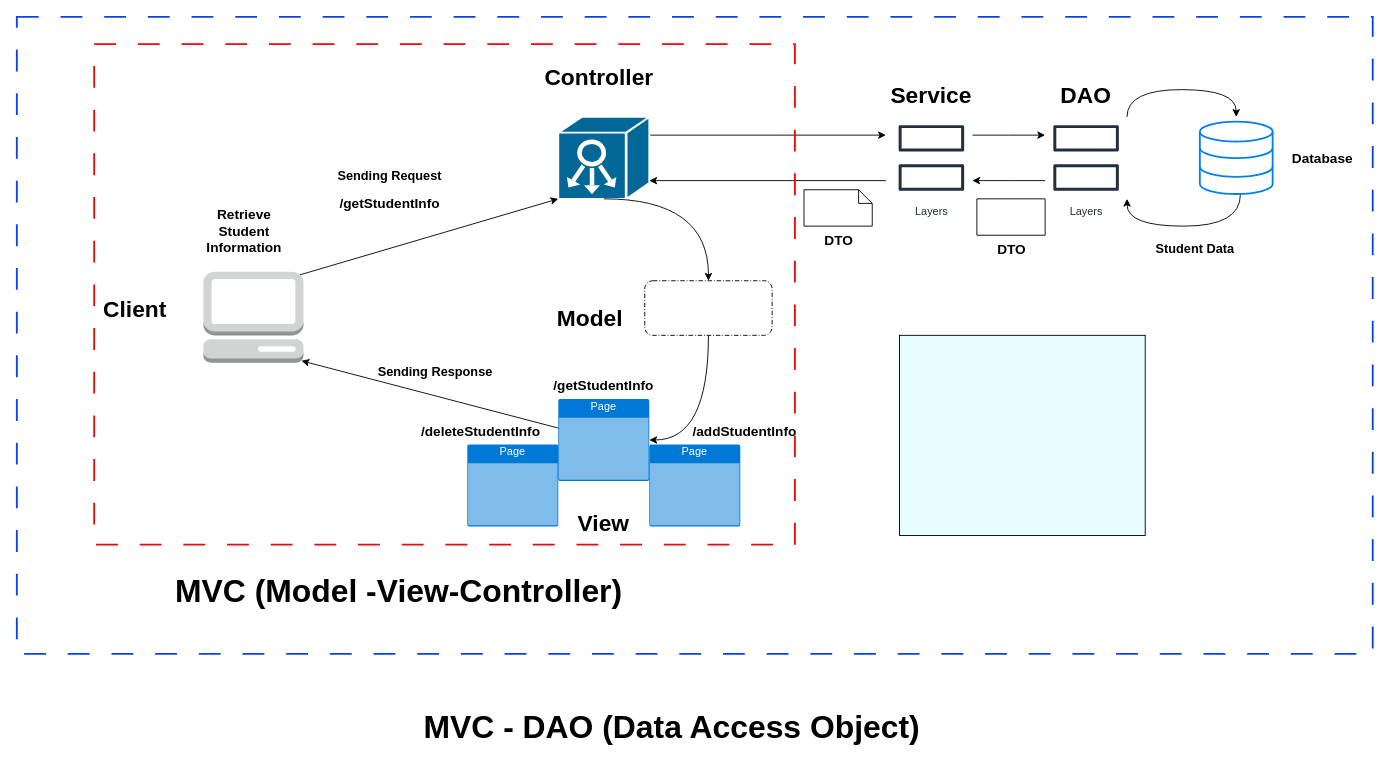
The diagram is 1389 pixels wide and 778 high, and some of its shapes have lost their labels. The shapes that lost their labels are listed below. From the top down, each one's centre as x and y in pixels, then its label:
the point at 708,307: Converted Student Data into Obect format
the point at 1022,435: DTO of Student Object - Name - ID - City - Parents Name - DOB
